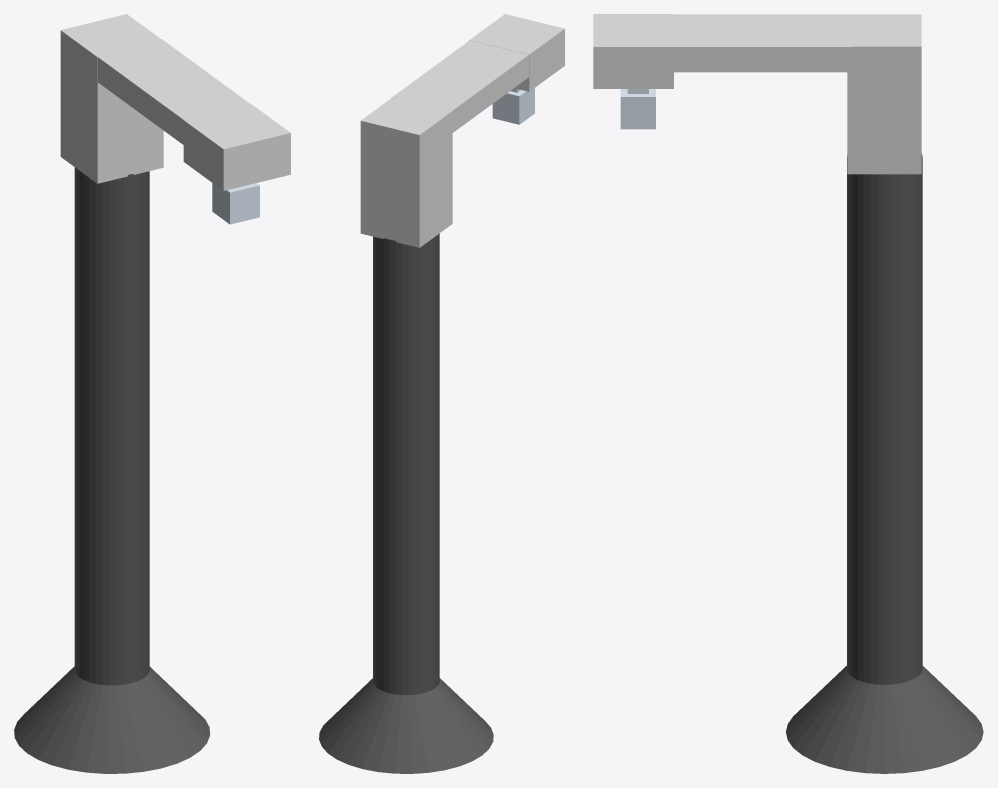
File: Street Lamp.fbx
3 views of the same model, side by side, from view 1: azimuth 30°, elevation 25°; view 2: azimuth 150°, elevation 25°; view 3: azimuth 270°, elevation 25° (orthographic). The views are drawn at different scales.
Visible parts, largest first — view 1: Cylinder.001, Cylinder, Cube, Cube.001, Cube.002, Lightbulb; view 2: Cylinder.001, Cube, Cylinder, Cube.001, Cube.002, Lightbulb; view 3: Cylinder.001, Cylinder, Cube, Cube.001, Cube.002, Lightbulb.
Boxes of the visible parts, x1,y1,x2,y2 form: Cylinder.001: (74, 167, 149, 685); Cylinder: (14, 666, 209, 773); Cube: (60, 14, 163, 183); Cube.001: (95, 39, 249, 144); Cube.002: (183, 103, 290, 190); Lightbulb: (212, 183, 259, 224); Cylinder.001: (373, 233, 439, 694); Cube: (360, 98, 452, 247); Cylinder: (319, 678, 493, 773); Cube.001: (390, 40, 528, 132); Cube.002: (469, 14, 564, 91); Lightbulb: (492, 88, 534, 124); Cylinder.001: (847, 153, 922, 684); Cylinder: (786, 666, 983, 773); Cube: (847, 14, 921, 174); Cube.001: (674, 14, 852, 72); Cube.002: (593, 14, 673, 88); Lightbulb: (620, 89, 655, 129).
Size of the model in its own units: 281 by 1101 by 555.
